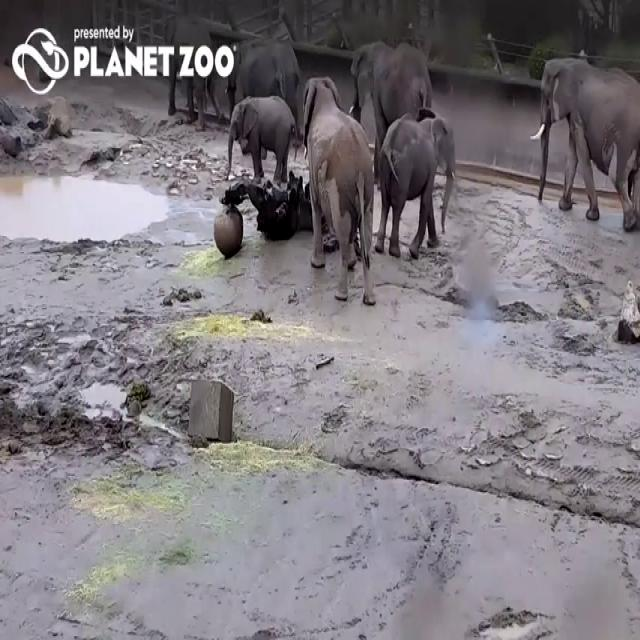Elephant: (530, 56, 639, 231), (302, 75, 376, 305), (348, 38, 432, 186), (225, 36, 304, 156), (374, 110, 438, 258), (226, 94, 300, 182)
